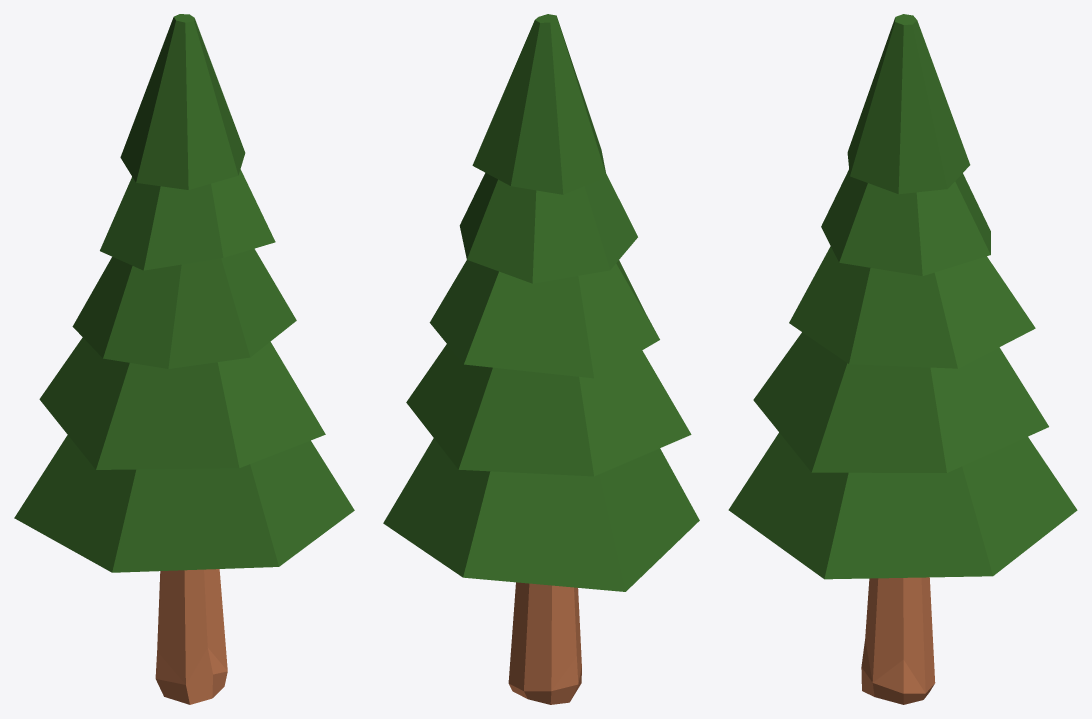
File: Tree3V2.fbx
3 renders of one model, left to right at view 1: azimuth 30°, elevation 25°; view 2: azimuth 150°, elevation 25°; view 3: azimuth 270°, elevation 25°, orthographic.
Parts seen in each view (by area): view 1: Tree3V2; view 2: Tree3V2; view 3: Tree3V2.
Boxes of the visible parts, x1,y1,x2,y2 form: Tree3V2: (14, 14, 354, 704); Tree3V2: (383, 14, 699, 704); Tree3V2: (728, 14, 1077, 704).
Bounding box in the file's own units: 778 × 1973 × 923.
